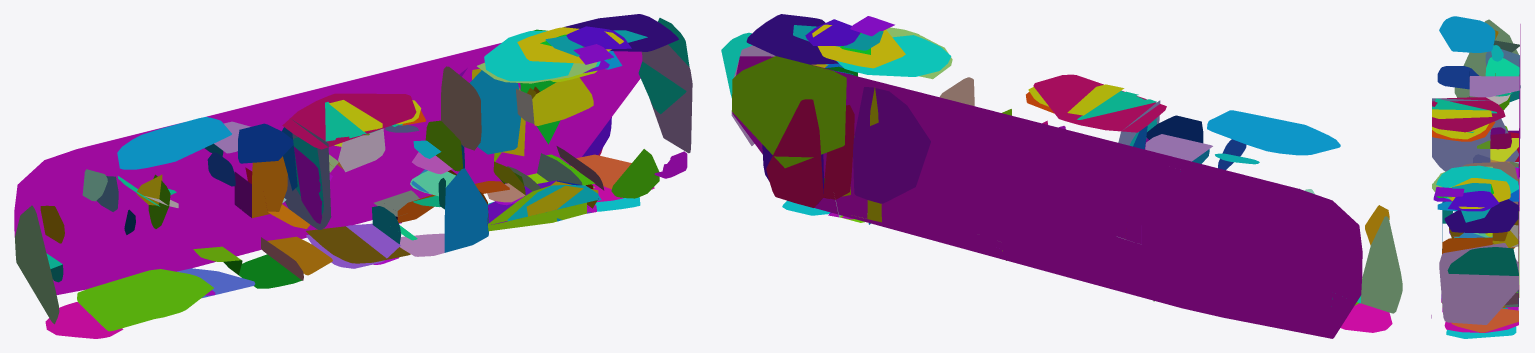
File: planarrecon_scene078.glb
The picture shows the model from 3 angles, left to right: view 1: azimuth 30°, elevation 25°; view 2: azimuth 150°, elevation 25°; view 3: azimuth 270°, elevation 25°; orthographic projection. The views are drawn at different scales.
Bounding box in the file's own units: 16.46 × 4.13 × 2.54.
